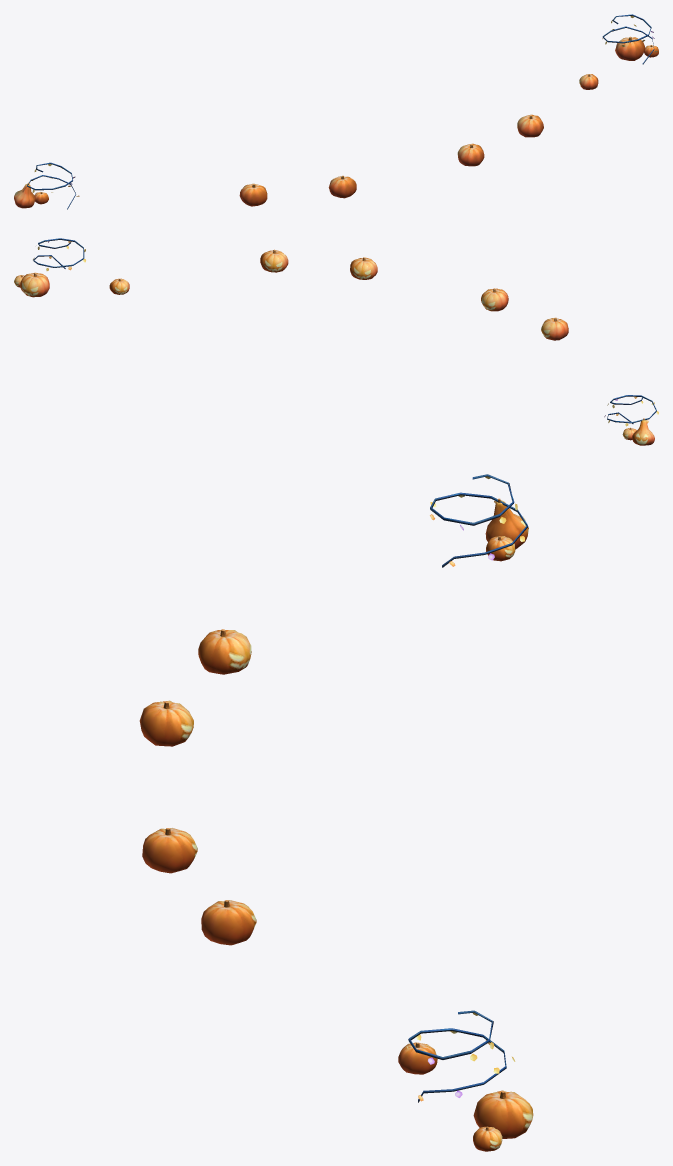
Rendered from pref_sm_4v4beachtech_bk_WSJ_decorate_T01_lv0.fbx.
3 views of the same model, one above another, from view 1: azimuth 30°, elevation 25°; view 2: azimuth 150°, elevation 25°; view 3: azimuth 270°, elevation 25° (orthographic). The views are drawn at different scales.
Visible parts, largest first — view 1: sm_4v4beachtech_WSJ_bk_decorate_T01_b_lv0, sm_4v4beachtech_WSJ_bk_decorate_T01_a_lv0; view 2: sm_4v4beachtech_WSJ_bk_decorate_T01_b_lv0, sm_4v4beachtech_WSJ_bk_decorate_T01_a_lv0; view 3: sm_4v4beachtech_WSJ_bk_decorate_T01_b_lv0, sm_4v4beachtech_WSJ_bk_decorate_T01_a_lv0.
Boxes of the visible parts, x1,y1,x2,y2 form: sm_4v4beachtech_WSJ_bk_decorate_T01_b_lv0: [14, 36, 658, 208]; sm_4v4beachtech_WSJ_bk_decorate_T01_a_lv0: [27, 14, 657, 209]; sm_4v4beachtech_WSJ_bk_decorate_T01_b_lv0: [14, 249, 654, 445]; sm_4v4beachtech_WSJ_bk_decorate_T01_a_lv0: [33, 238, 658, 426]; sm_4v4beachtech_WSJ_bk_decorate_T01_b_lv0: [139, 498, 533, 1151]; sm_4v4beachtech_WSJ_bk_decorate_T01_a_lv0: [406, 474, 528, 1102].
Size of the model in its own units: 34.24 by 2.61 by 9.15.
